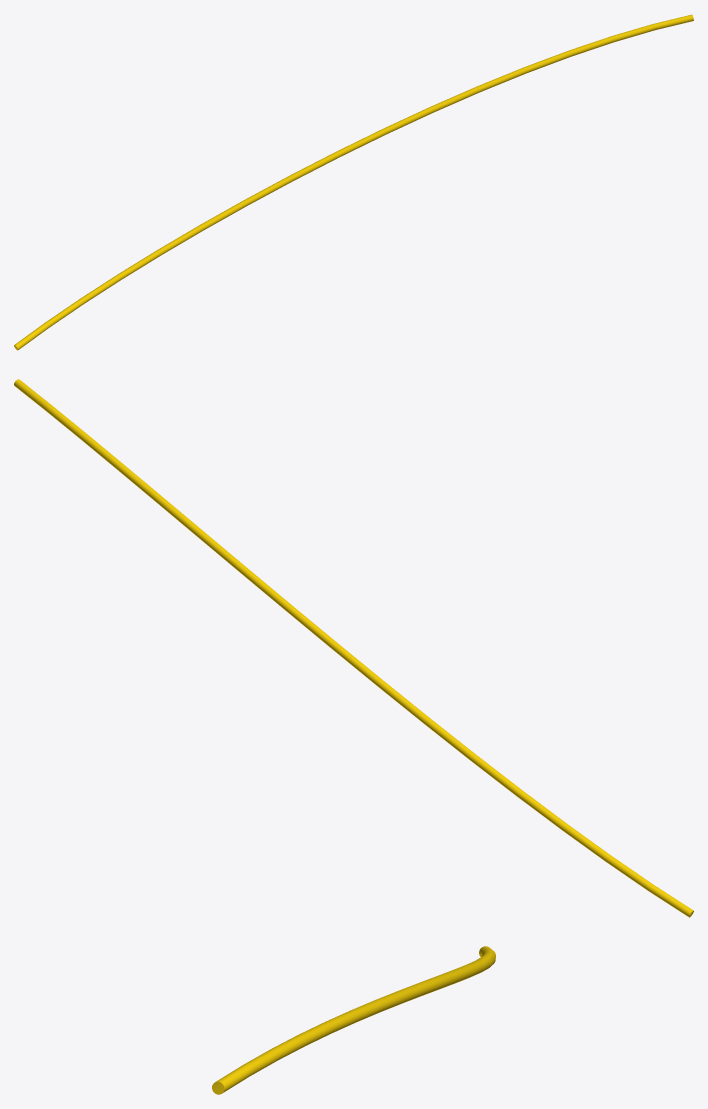
Rendered from Event_421115418_track_40.fbx.
3 renders of one model, top to bottom at view 1: azimuth 30°, elevation 25°; view 2: azimuth 150°, elevation 25°; view 3: azimuth 270°, elevation 25°, orthographic. The views are drawn at different scales.
Visible parts, largest first — view 1: Model; view 2: Model; view 3: Model.
Boxes of the visible parts, <box> form: Model: <box>14,14,693,350</box>; Model: <box>14,379,693,917</box>; Model: <box>212,946,495,1094</box>.
Bounding box in the file's own units: 4.23 × 1.56 × 0.8492.
